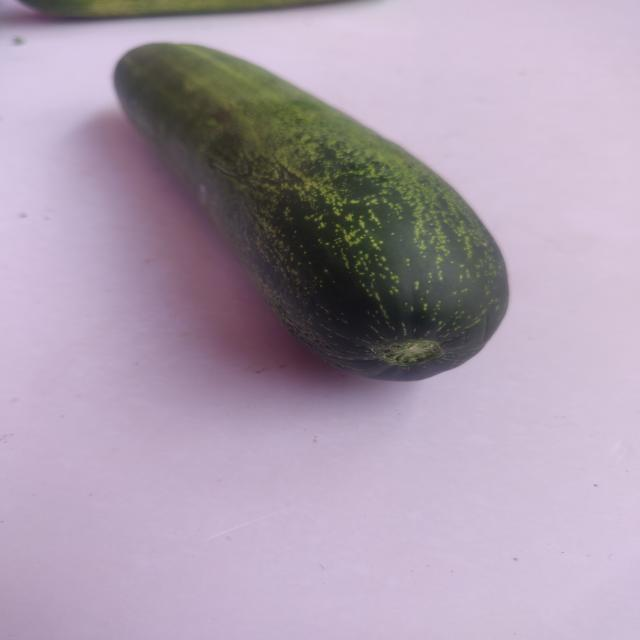Cucumber: (97, 31, 526, 395)
